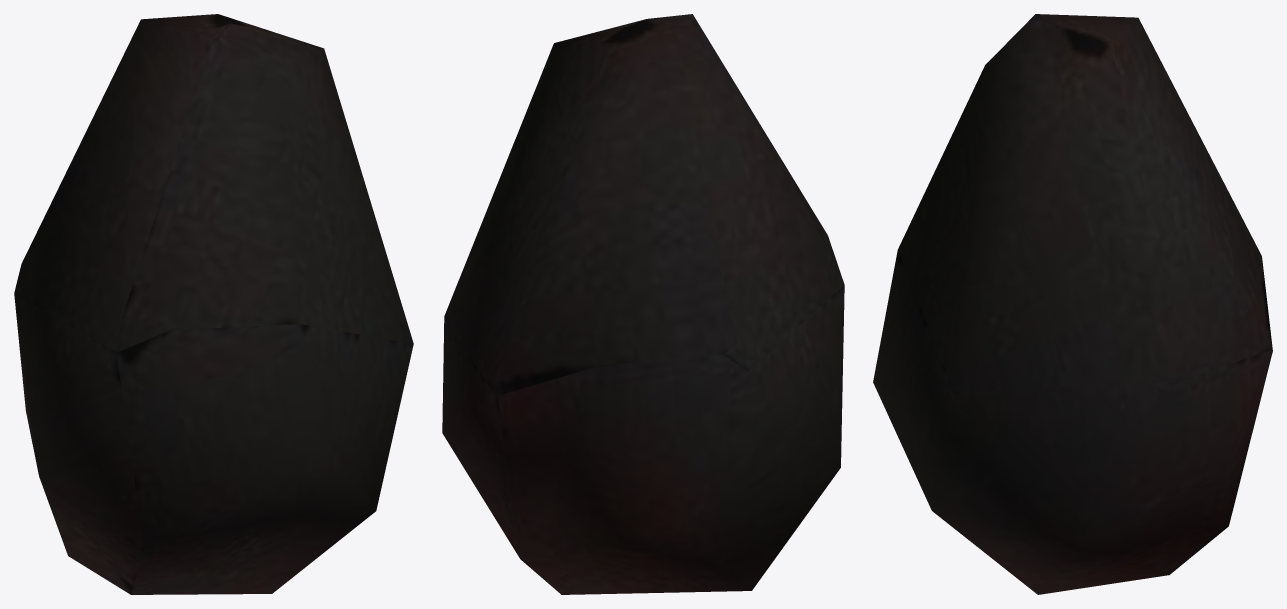
File: food_avocado_01.glb
3 views of the same model, side by side, from view 1: azimuth 30°, elevation 25°; view 2: azimuth 150°, elevation 25°; view 3: azimuth 270°, elevation 25° (orthographic). The views are drawn at different scales.
Visible parts, largest first — view 1: food_avocado_01; view 2: food_avocado_01; view 3: food_avocado_01.
Boxes of the visible parts, x1=… form: food_avocado_01: x1=14, y1=14, x2=413, y2=594; food_avocado_01: x1=442, y1=14, x2=844, y2=594; food_avocado_01: x1=873, y1=14, x2=1272, y2=594.
Bounding box in the file's own units: 0.0881 × 0.1405 × 0.0921.
Materials: 1 (1 with a texture image).
